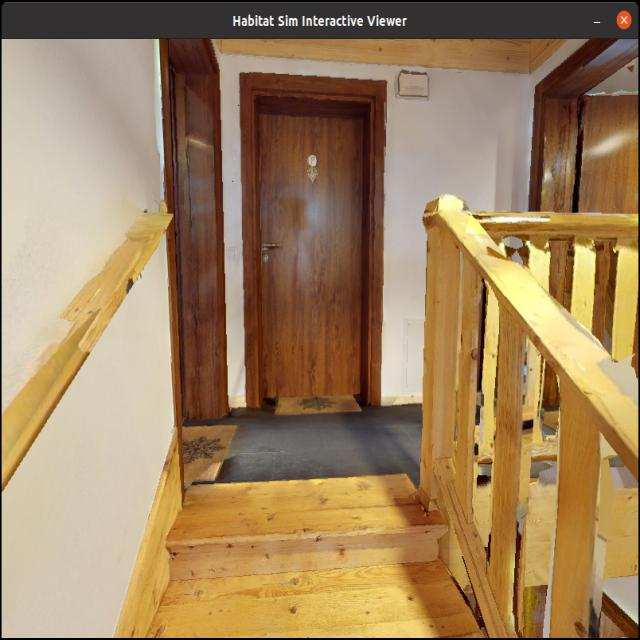door: (249, 94, 372, 406)
stairs: (163, 204, 640, 640)
